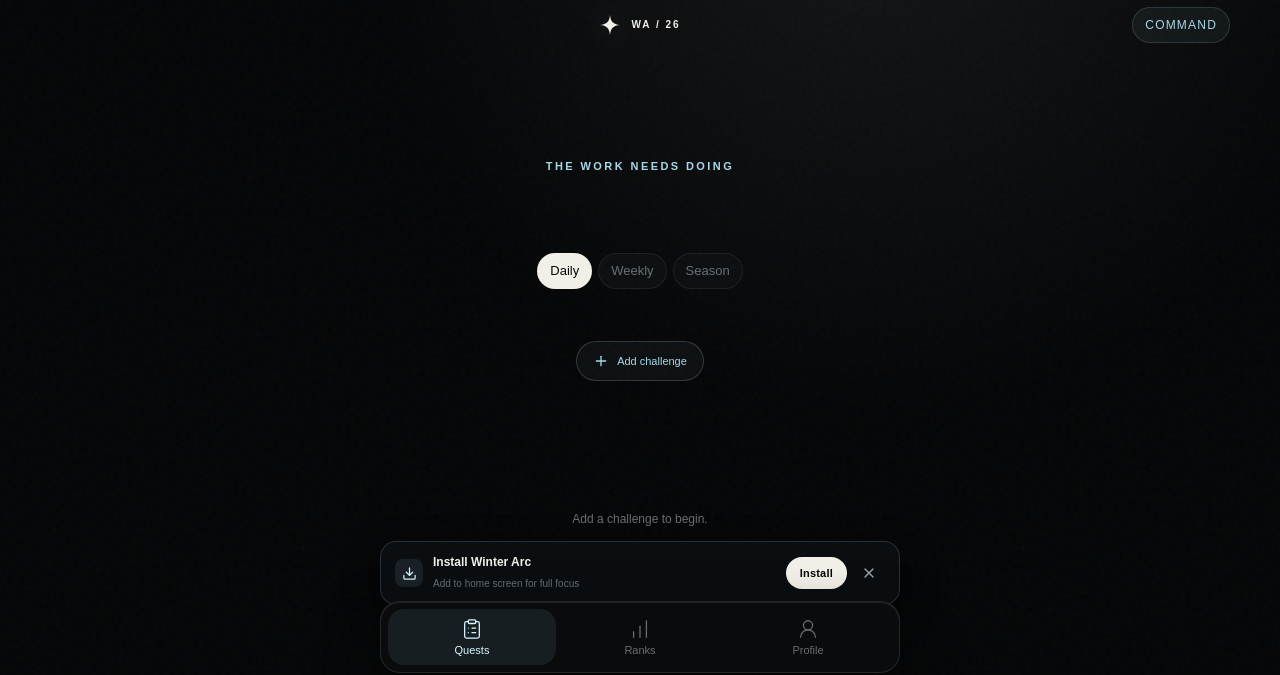
Test: administrator workflow › approves pending proof
Click the button "Command". click: [1181, 25]
box: top-left (1132, 7), bottom-right (1230, 43)
(page scrolled)
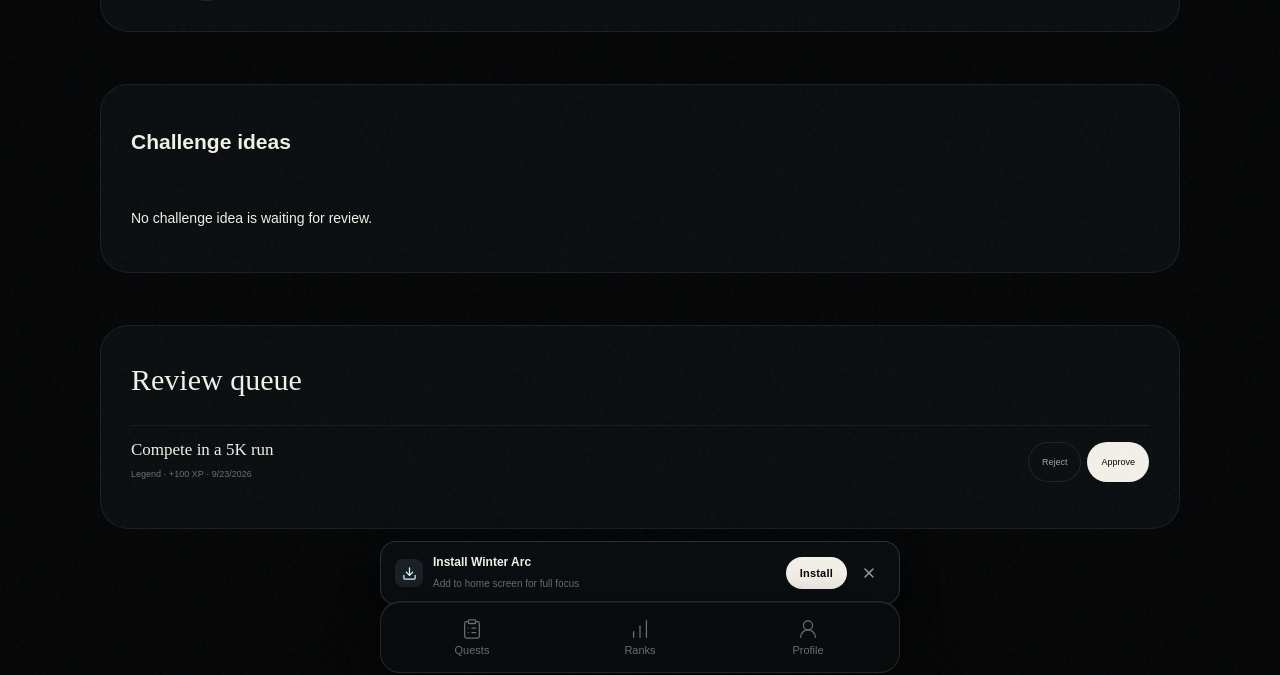
Click the button "Approve". click: [1118, 462]
box: top-left (1088, 442), bottom-right (1149, 482)
(page scrolled)
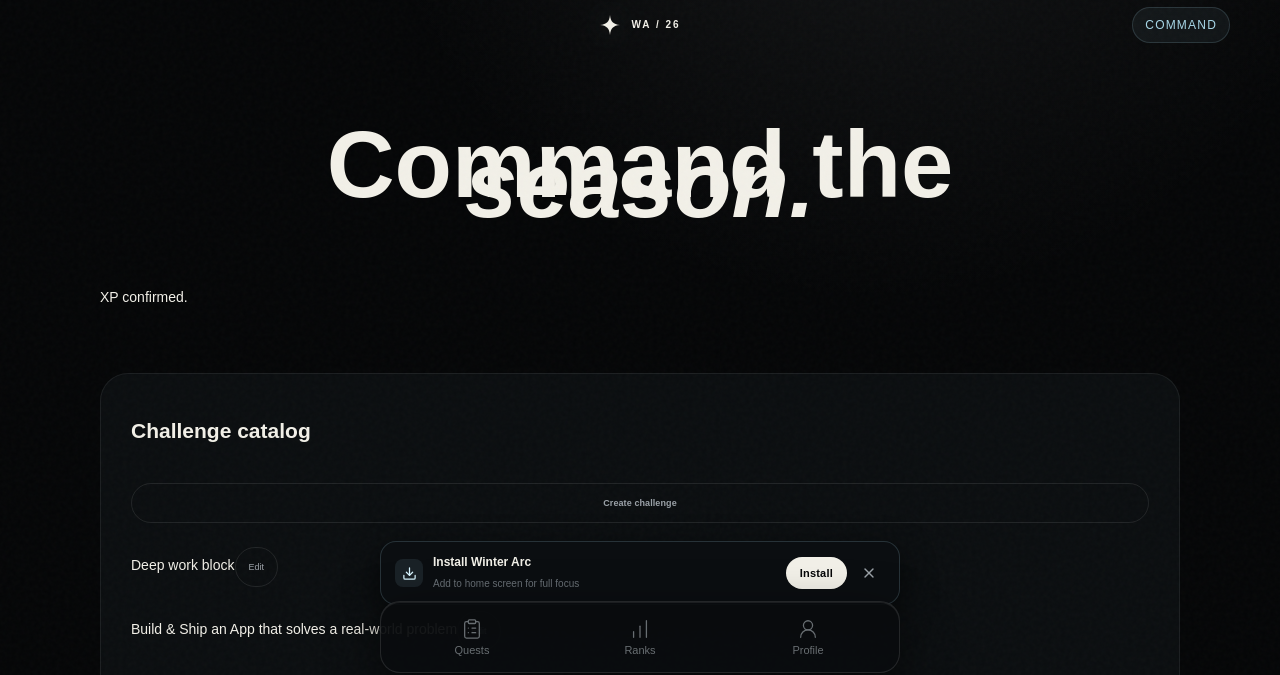
Expected: the text "XP confirmed." is shown, top-left (100, 289), bottom-right (188, 305)
